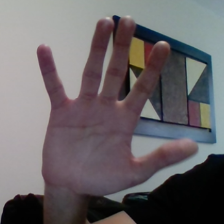left: (33, 12, 201, 195)
